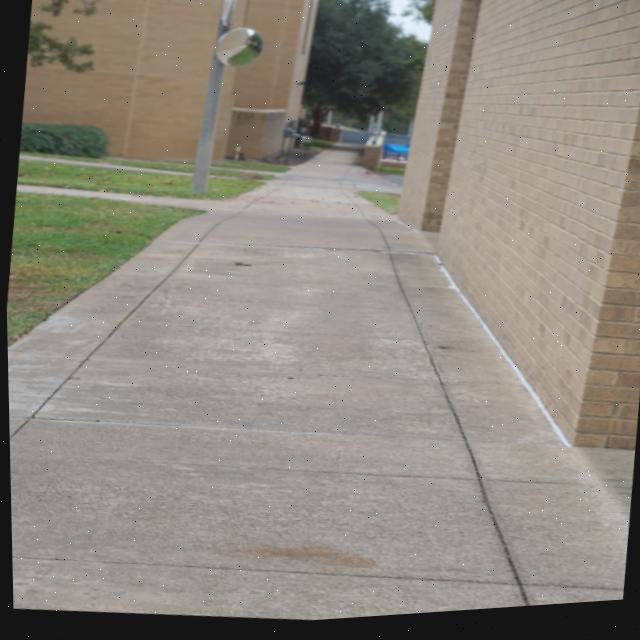Sidewalk: (6, 153, 632, 624), (18, 154, 159, 174)
